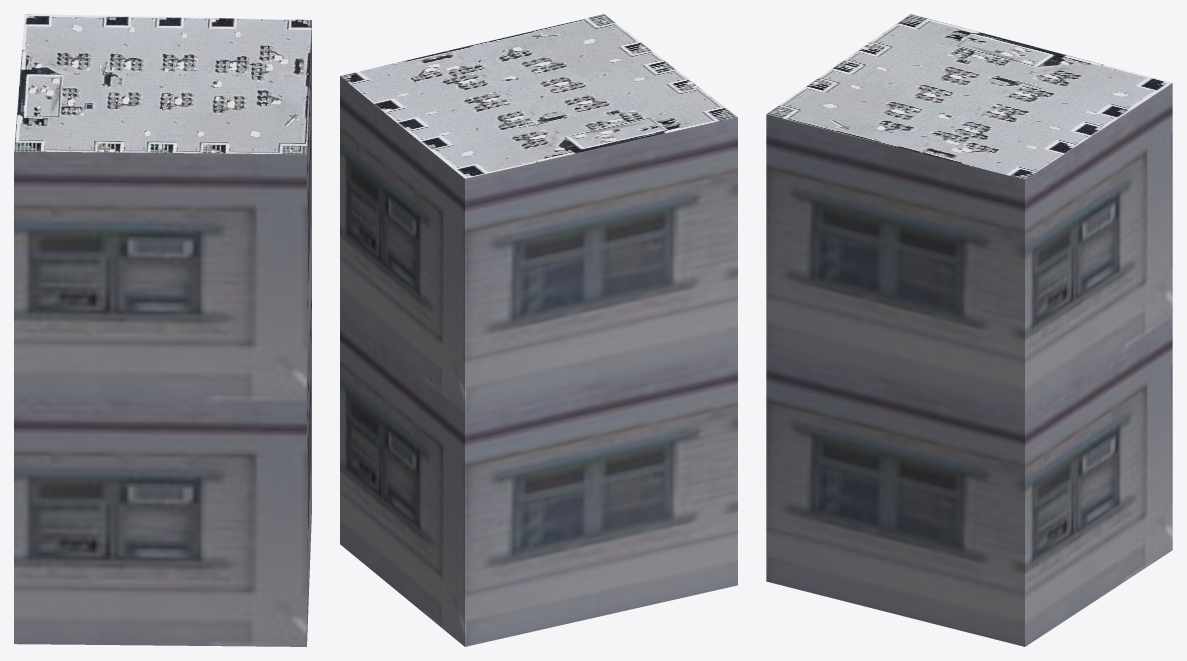
The model's file is ResTex__4250.fbx.
3 views of the same model, side by side, from view 1: azimuth 30°, elevation 25°; view 2: azimuth 150°, elevation 25°; view 3: azimuth 270°, elevation 25° (orthographic). The views are drawn at different scales.
Parts seen in each view (by area): view 1: CityEngineMaterial_1_m, CityEngineMaterial_8_m; view 2: CityEngineMaterial_1_m, CityEngineMaterial_8_m; view 3: CityEngineMaterial_1_m, CityEngineMaterial_8_m.
Boxes of the visible parts, bbox=[...] form: CityEngineMaterial_1_m: bbox=[14, 22, 311, 646]; CityEngineMaterial_8_m: bbox=[14, 14, 311, 154]; CityEngineMaterial_1_m: bbox=[340, 76, 737, 646]; CityEngineMaterial_8_m: bbox=[340, 14, 737, 178]; CityEngineMaterial_1_m: bbox=[766, 83, 1172, 646]; CityEngineMaterial_8_m: bbox=[766, 14, 1171, 179].
Bounding box in the file's own units: 4.57 × 6 × 4.73.
Materials: 2 (2 with a texture image).
